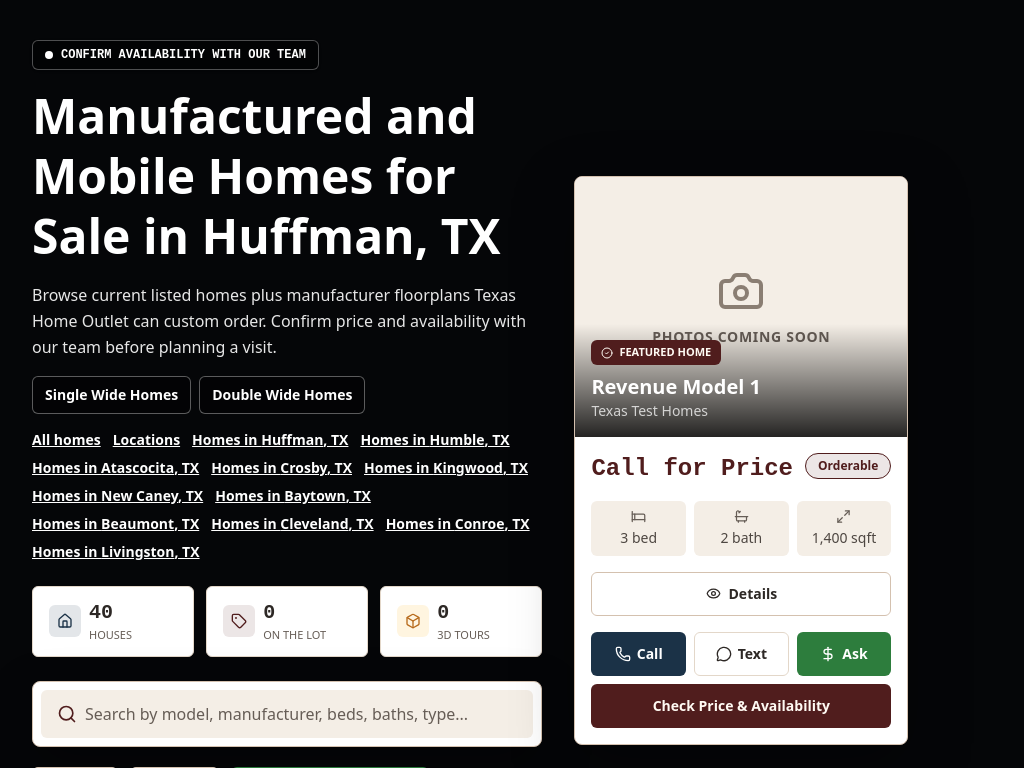
Test: InventoryBrowse progressive catalog rendering › searches the complete catalog, including homes outside the first batch
Type "Revenue Model 40" into the field named "Search homes".
click(301, 714); type("Revenue Model 40")  # box [85, 702, 517, 726]
(page scrolled)
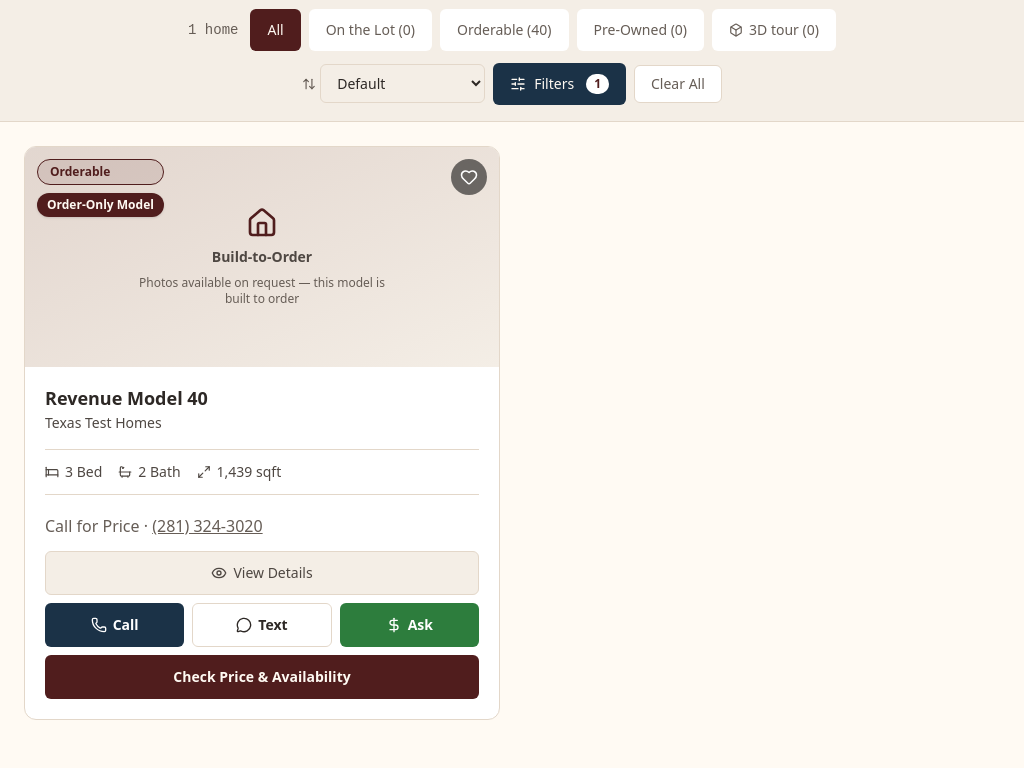
Expected: the heading "Revenue Model 40" is shown, [45, 386, 208, 409]
